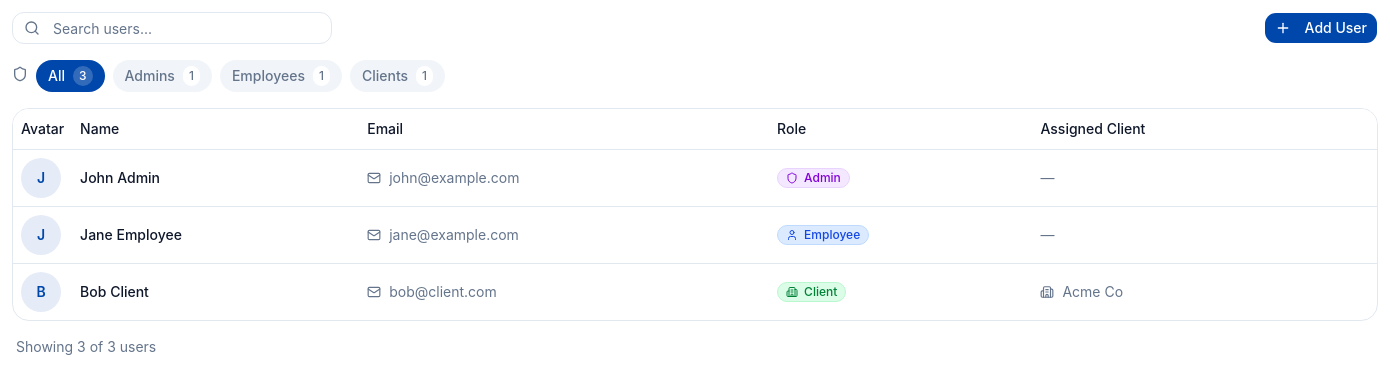
Scenario: UserList › filters users by search query
Type "john" into the field with placeholder "Search users..." at (172, 28), box [12, 12, 332, 44]
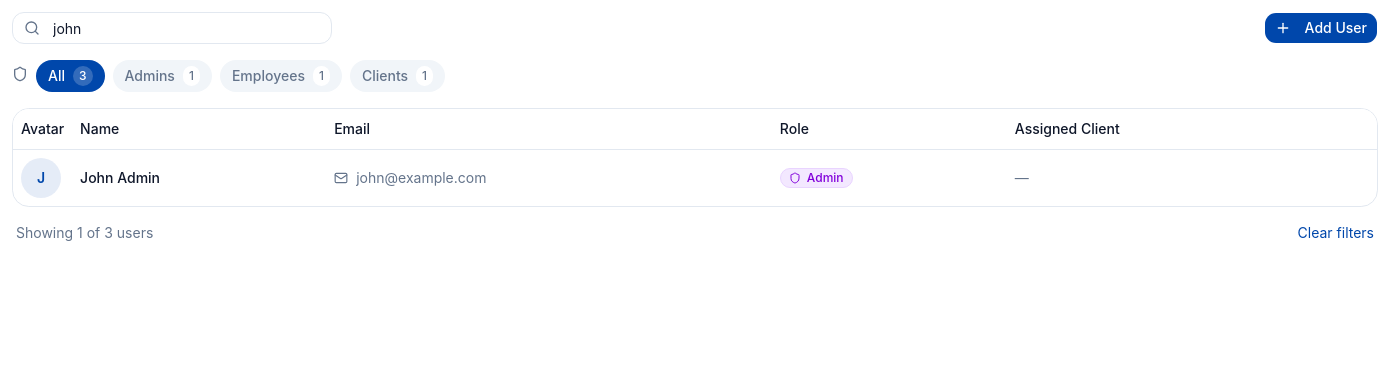
Check: the text "John Admin" is shown, box [80, 168, 160, 186]
Check: the text "Jane Employee" is gone
